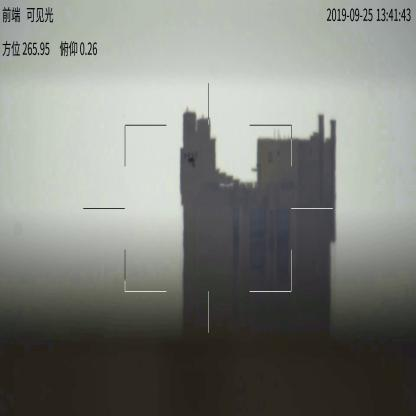uav: (181, 146, 198, 168)
